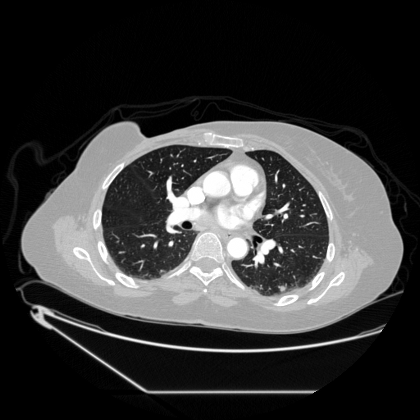nodule: (280, 286, 284, 290)
